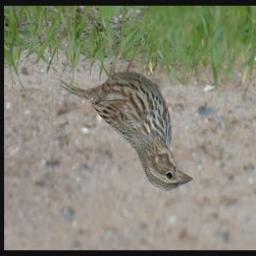Sparrow: (58, 28, 195, 197)
